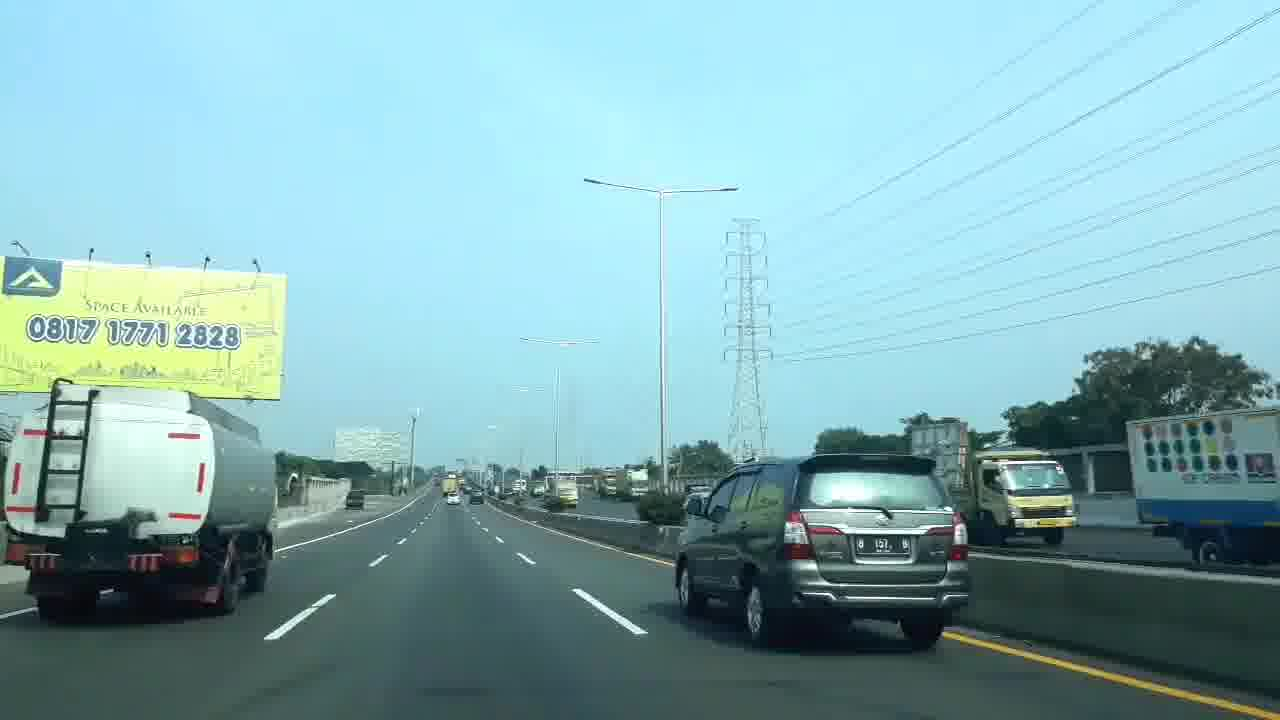plate_positive: (854, 534, 913, 558)
